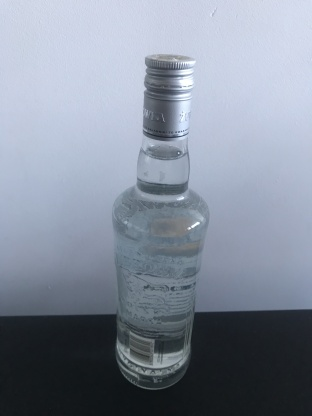nakretka: (141, 52, 198, 142)
